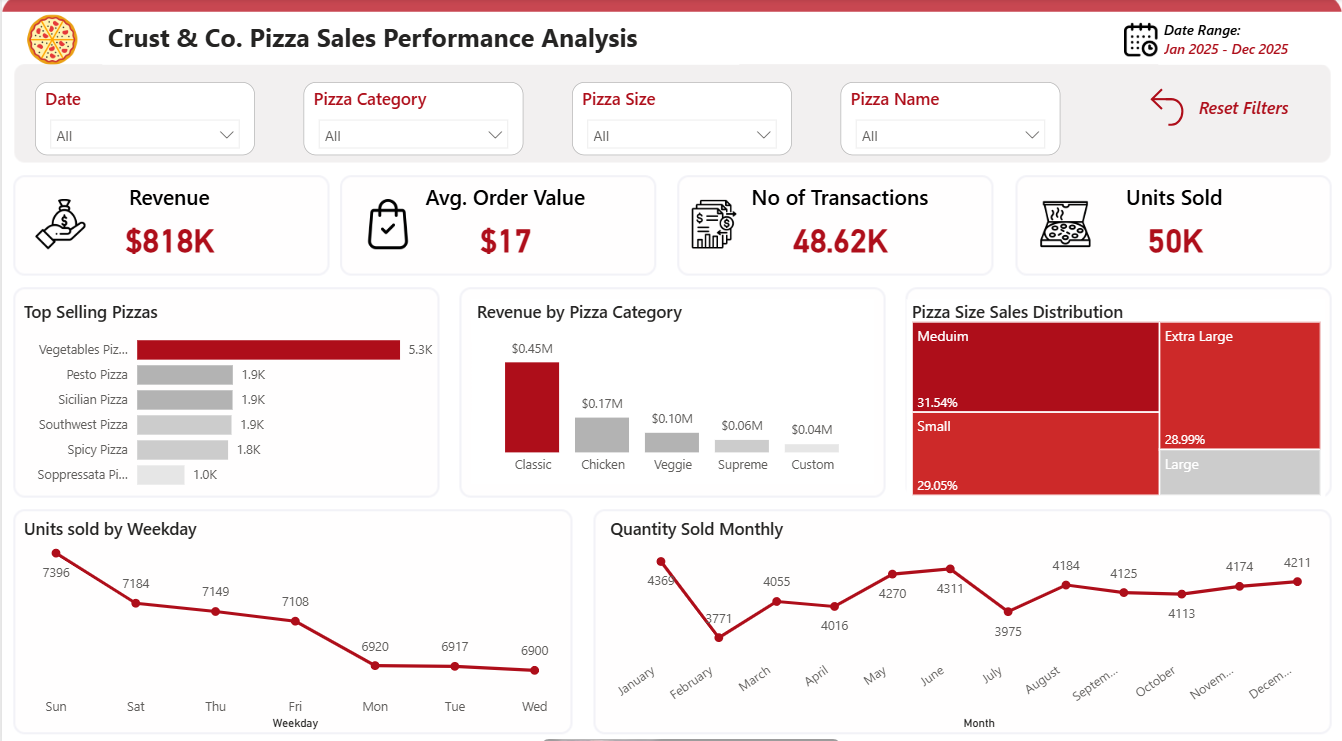

The dashboard page shown, as its layout file describes it:
{"tool":"powerbi","page":{"name":"Page 1","canvas":[1280,720],"ordinal":6},"visuals":[{"type":"card","title":"Revenue","fields":{"Values":["Sum(Data Cleaned.Revenue)"]},"box":[16,176,288,80],"z":0},{"type":"card","title":"Avg. Order Value","fields":{"Values":["Avg(Data Cleaned.Revenue)"]},"box":[336,176,288,80],"z":1000},{"type":"card","title":"No of Transactions","fields":{"Values":["CountNonNull(Data Cleaned.Quantity Sold)"]},"box":[656,176,288,80],"z":2000},{"type":"card","title":"Units Sold","fields":{"Values":["Sum(Data Cleaned.Quantity Sold)"]},"box":[976,176,288,80],"z":3000},{"type":"barChart","title":"Top Selling Pizzas ","fields":{"Category":["Data Cleaned.Pizza Name"],"Y":["Sum(Data Cleaned.Quantity Sold)"]},"box":[16,288,400,192],"z":4000},{"type":"treemap","title":"Pizza Size Sales Distribution","fields":{"Group":["Data Cleaned.Pizza Size"],"Values":["Divide(Sum(Data Cleaned.Quantity Sold), ScopedEval(Sum(Data Cleaned.Quantity Sold), []))"]},"box":[864,288,400,192],"z":5000},{"type":"columnChart","title":"Revenue by Pizza Category","fields":{"Category":["Data Cleaned.Pizza Category"],"Y":["Sum(Data Cleaned.Revenue)"]},"box":[448,288,384,176],"z":6000},{"type":"lineChart","title":"Units sold by Weekday ","fields":{"Category":["Data Cleaned.Weekday "],"Y":["Sum(Data Cleaned.Quantity Sold)"]},"box":[16,496,528,208],"z":7000},{"type":"lineChart","title":"Quantity Sold Monthly","fields":{"Category":["Data Cleaned.Order Date.Variation.Date Hierarchy.Month"],"Y":["Sum(Data Cleaned.Quantity Sold)"]},"box":[576,496,688,208],"z":8000},{"type":"textbox","box":[96,16,608,48],"z":9000},{"type":"image","box":[0,16,96,48],"z":10000},{"type":"textbox","box":[1104,16,160,48],"z":11000},{"type":"image","box":[1072,16,32,48],"z":12000},{"type":"image","box":[16,192,80,48],"z":13000},{"type":"image","box":[336,192,64,48],"z":14000},{"type":"image","box":[656,192,48,48],"z":15000},{"type":"image","box":[976,192,80,48],"z":16000},{"type":"slicer","title":"Date","fields":{"Values":["Data Cleaned.Order Date"]},"box":[32,80,210,70],"z":17000},{"type":"slicer","title":"Pizza Category","fields":{"Values":["Data Cleaned.Pizza Category"]},"box":[288,80,210,70],"z":18000},{"type":"slicer","title":"Pizza Size","fields":{"Values":["Data Cleaned.Pizza Size"]},"box":[544,80,210,70],"z":19000},{"type":"slicer","title":"Pizza Name","fields":{"Values":["Data Cleaned.Pizza Name"]},"box":[800,80,210,70],"z":20000},{"type":"actionButton","title":"Reset Filters","box":[1088,80,144,48],"z":21000}]}

Visuals, with their boxes in screenshot pixels (x1, y1, x2, y2), scaled from the page's 1280x720 canvas onto the 1342x741 screenshot:
"Revenue" card: region(17, 181, 319, 263)
"Avg. Order Value" card: region(352, 181, 654, 263)
"No of Transactions" card: region(688, 181, 990, 263)
"Units Sold" card: region(1023, 181, 1325, 263)
"Top Selling Pizzas " barChart: region(17, 296, 436, 494)
"Pizza Size Sales Distribution" treemap: region(906, 296, 1325, 494)
"Revenue by Pizza Category" columnChart: region(470, 296, 872, 478)
"Units sold by Weekday " lineChart: region(17, 510, 570, 725)
"Quantity Sold Monthly" lineChart: region(604, 510, 1325, 725)
textbox: region(101, 16, 738, 66)
image: region(0, 16, 101, 66)
textbox: region(1157, 16, 1325, 66)
image: region(1124, 16, 1157, 66)
image: region(17, 198, 101, 247)
image: region(352, 198, 419, 247)
image: region(688, 198, 738, 247)
image: region(1023, 198, 1107, 247)
"Date" slicer: region(34, 82, 254, 154)
"Pizza Category" slicer: region(302, 82, 522, 154)
"Pizza Size" slicer: region(570, 82, 791, 154)
"Pizza Name" slicer: region(839, 82, 1059, 154)
"Reset Filters" actionButton: region(1141, 82, 1292, 132)
